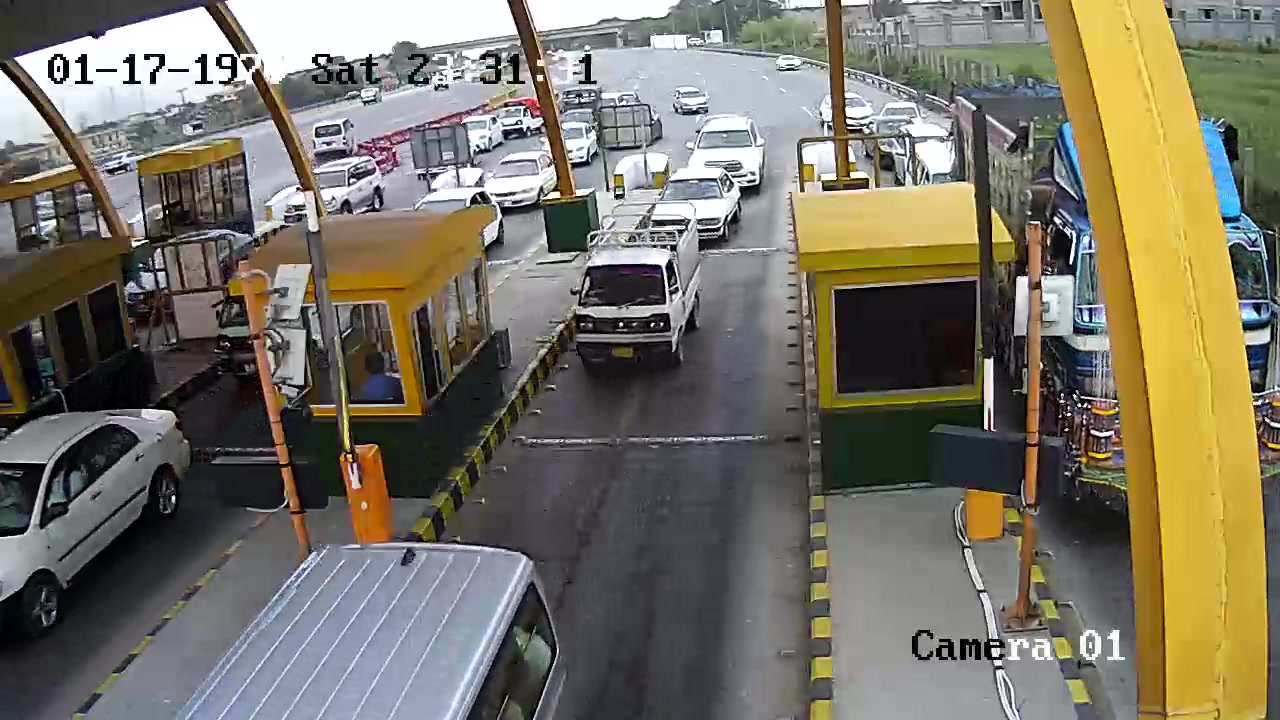F1: (560, 204, 702, 382)
